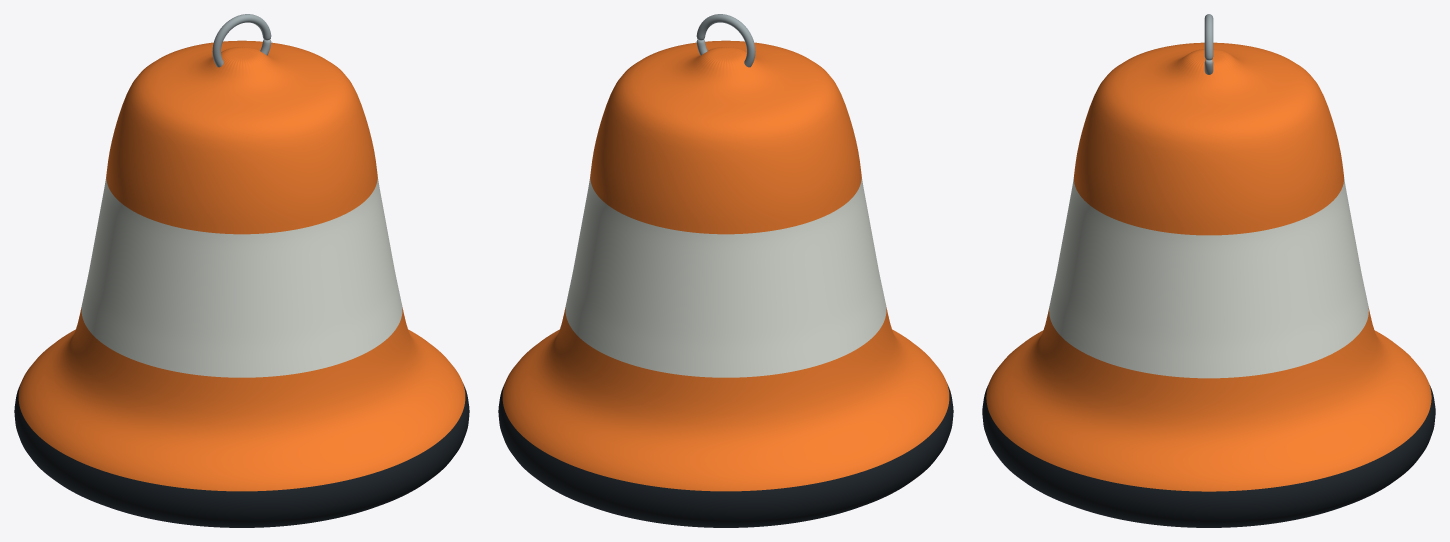
Rendered from Course_buoy.glb.
3 views of the same model, side by side, from view 1: azimuth 30°, elevation 25°; view 2: azimuth 150°, elevation 25°; view 3: azimuth 270°, elevation 25° (orthographic).
Parts seen in each view (by area): view 1: Course_buoy_GameMesh; view 2: Course_buoy_GameMesh; view 3: Course_buoy_GameMesh.
Part boxes in pixels (bbox=[...]): Course_buoy_GameMesh: bbox=[14, 14, 469, 527]; Course_buoy_GameMesh: bbox=[498, 14, 953, 527]; Course_buoy_GameMesh: bbox=[982, 14, 1435, 527].
Bounding box in the file's own units: 0.853 × 0.9197 × 0.853.
